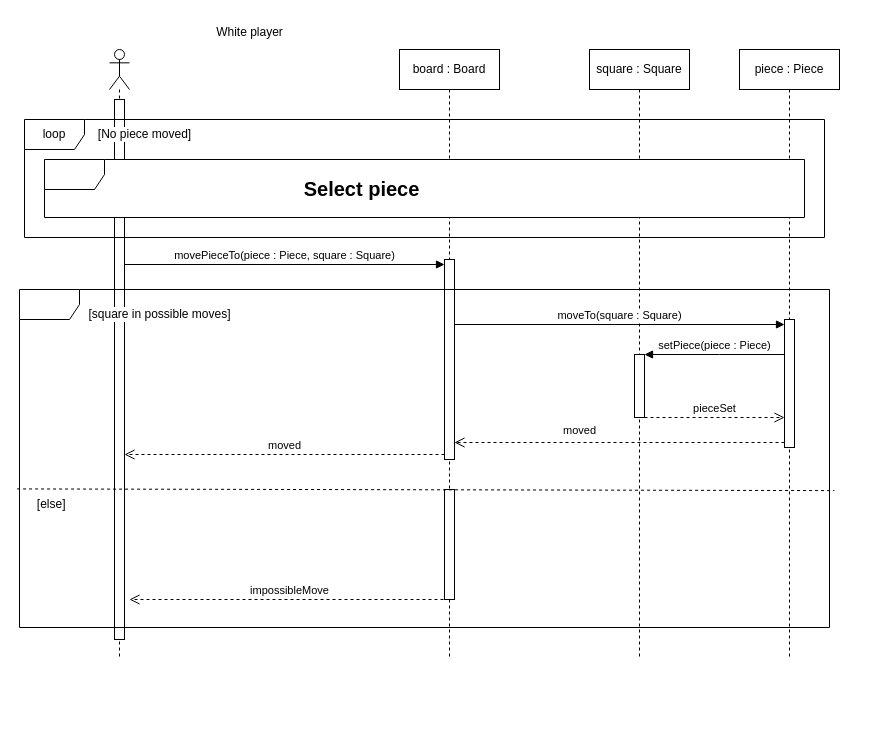
Image size: 882x746. Some labels were removed from this diagram. Each missing label, with the box of its shape:
alt: (18, 288, 830, 628)
ref: (44, 158, 804, 218)
